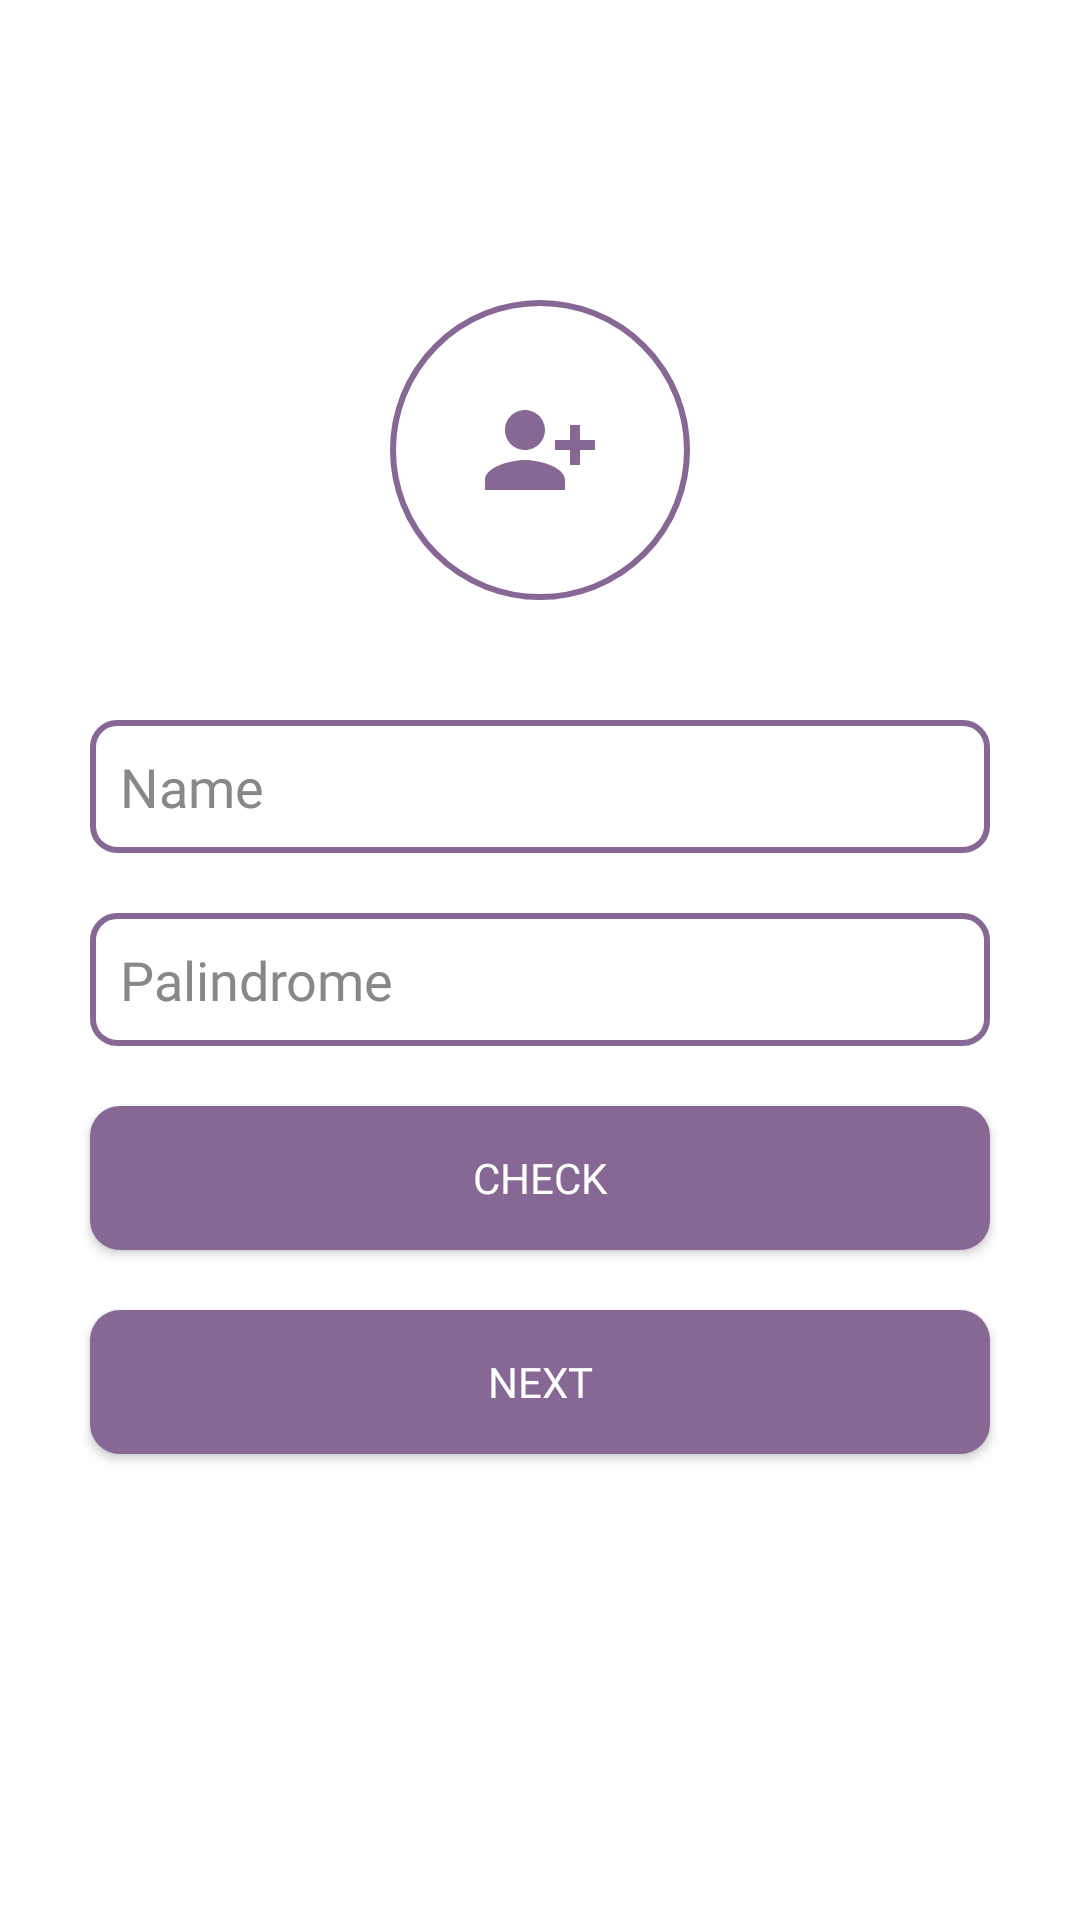

Screen size 1080px×1920px. Icon name, then its center in pixels as (x=x, y=y):
person: (x=540, y=450)
